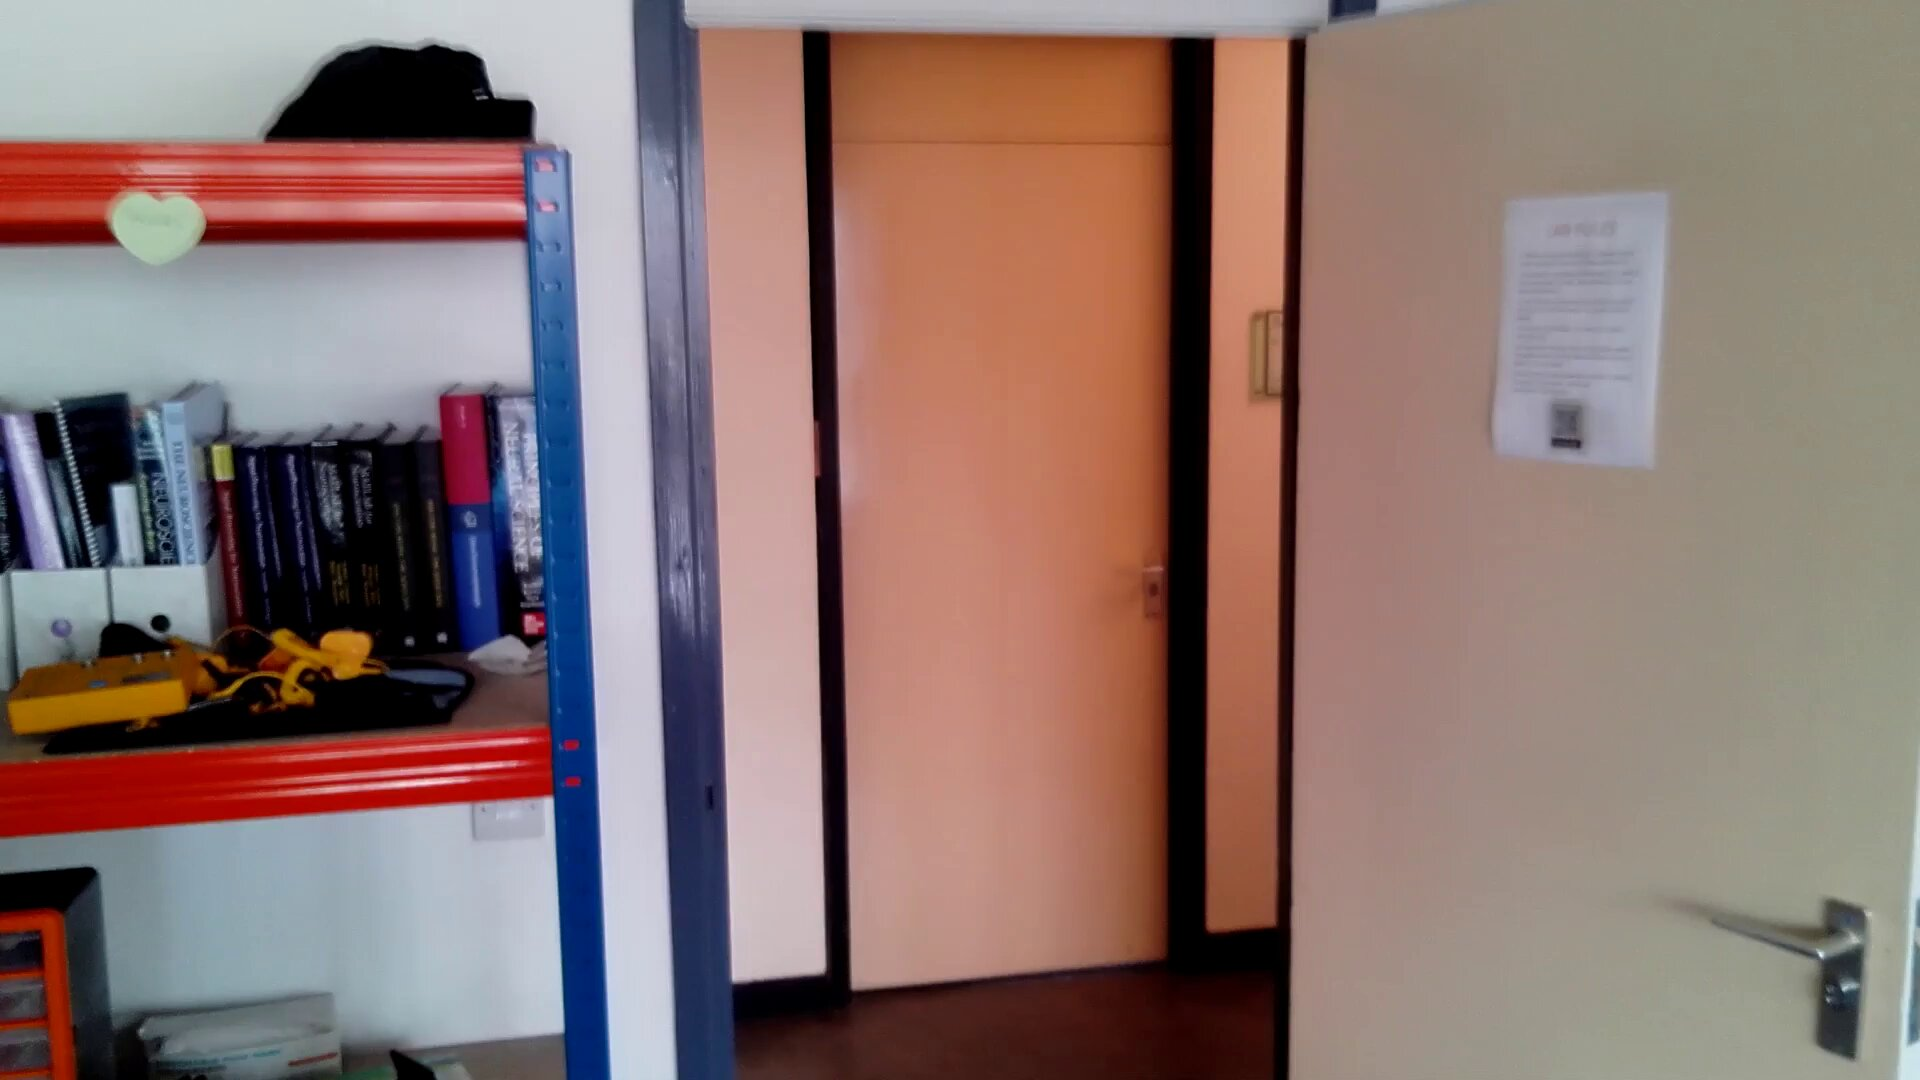Door: (1278, 13, 1920, 1080), (798, 123, 1222, 981)
